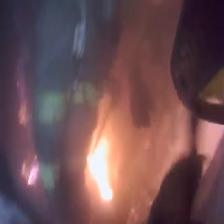fire: (87, 139, 112, 200)
